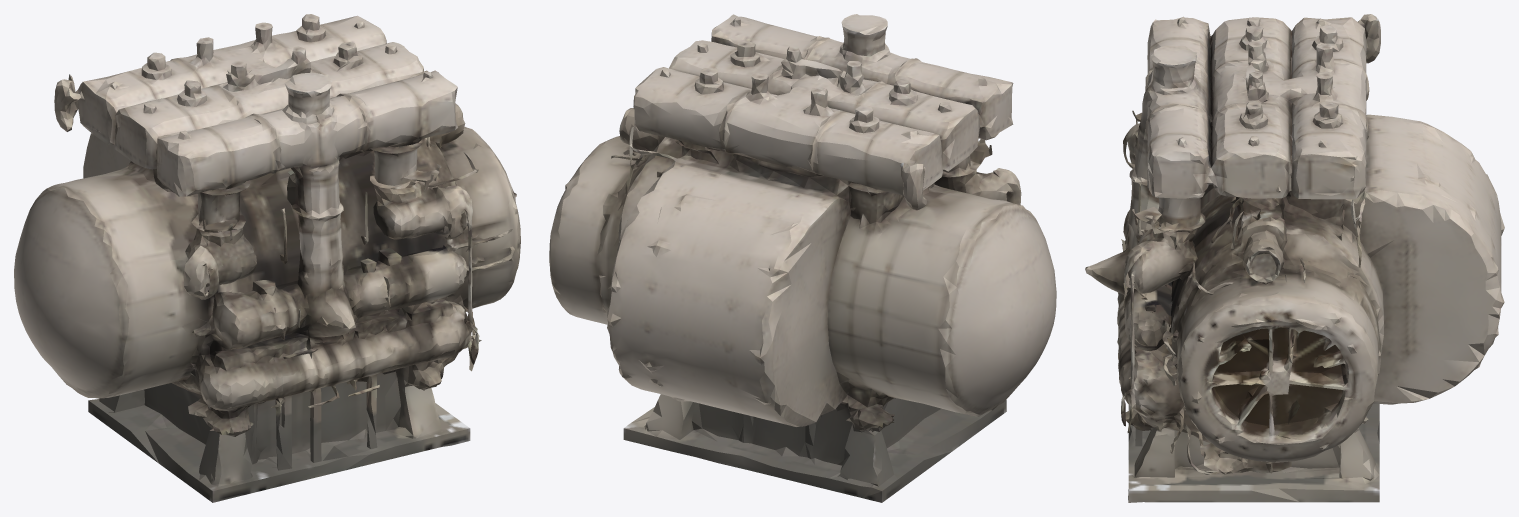
Rendered from golem_engine_main.glb.
3 renders of one model, left to right at view 1: azimuth 30°, elevation 25°; view 2: azimuth 150°, elevation 25°; view 3: azimuth 270°, elevation 25°, orthographic.
Visible parts, largest first — view 1: golem_engine_main; view 2: golem_engine_main; view 3: golem_engine_main.
Part boxes in pixels (box(x1,y1,x2,y2)): golem_engine_main: box(14, 14, 520, 502); golem_engine_main: box(549, 14, 1056, 502); golem_engine_main: box(1085, 14, 1504, 502).
Size of the model in its own units: 1.89 by 1.51 by 1.51.
1 material, 1 textured.
